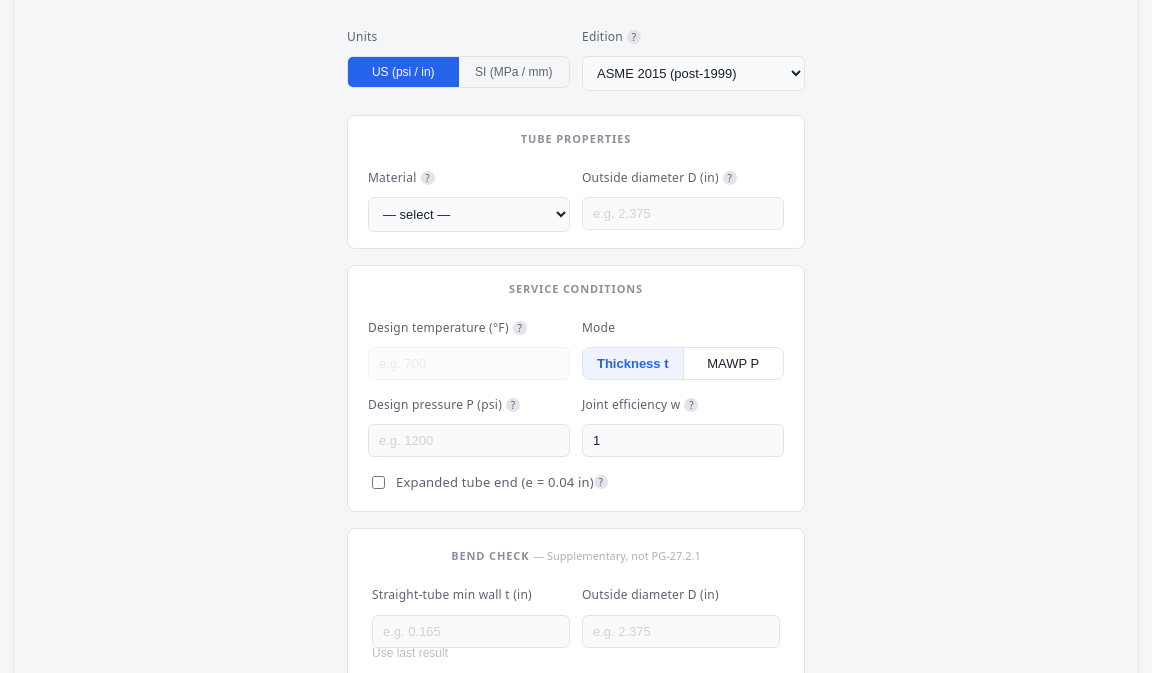
Test: TubeCalculator practical minimum note › note absent when result is at or above 0.125 in
Select "SA-178 C" in the dropdown labelled "Material ?" at coordinates (469, 215), box [368,197,570,232]
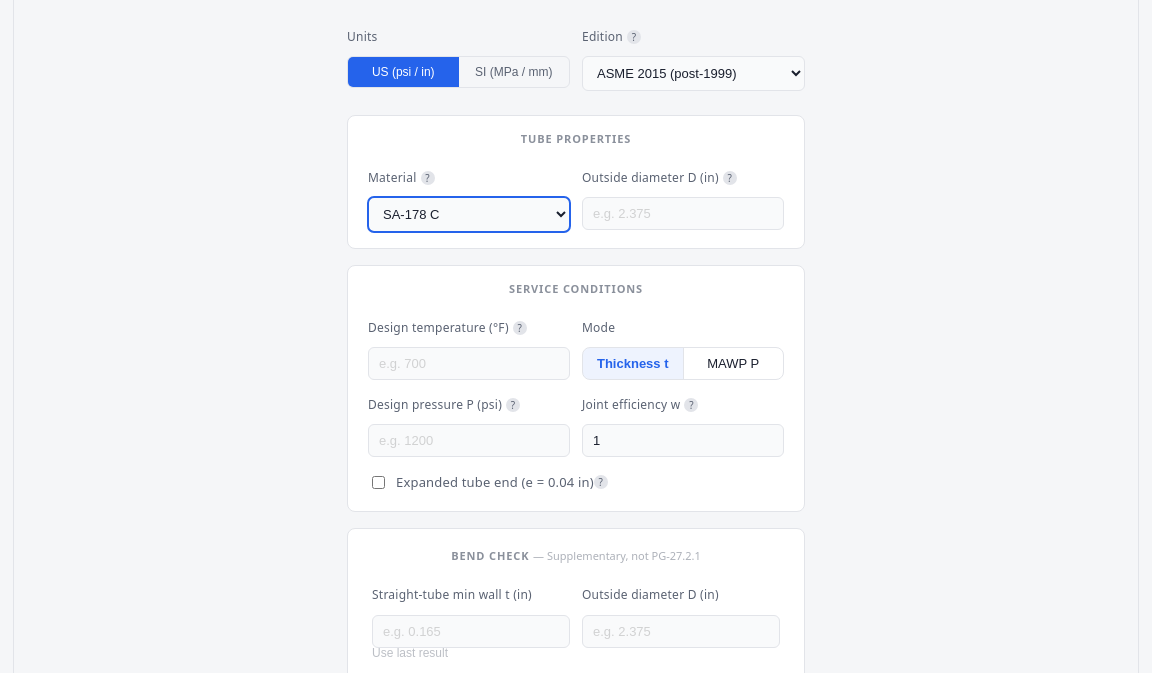
Type "700" into the number field with placeholder "e.g. 700" at coordinates (469, 364), box [368,347,570,380]
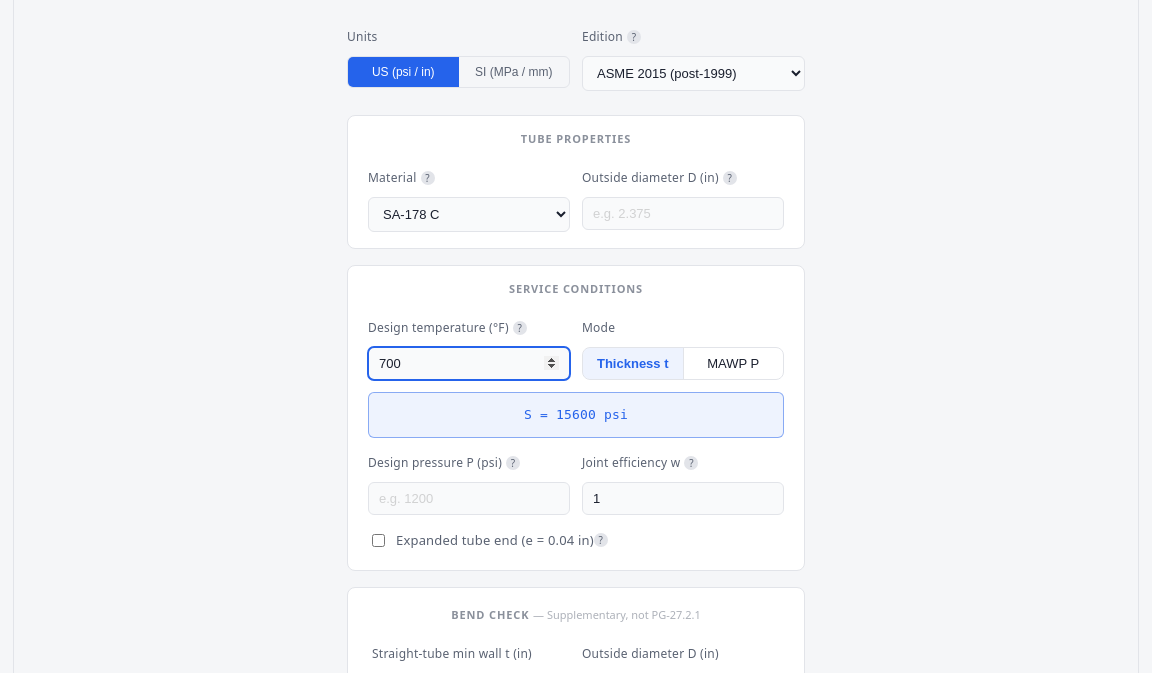
Type "2000" into the number field with placeholder "e.g. 1200" at coordinates (469, 499), box [368,482,570,515]
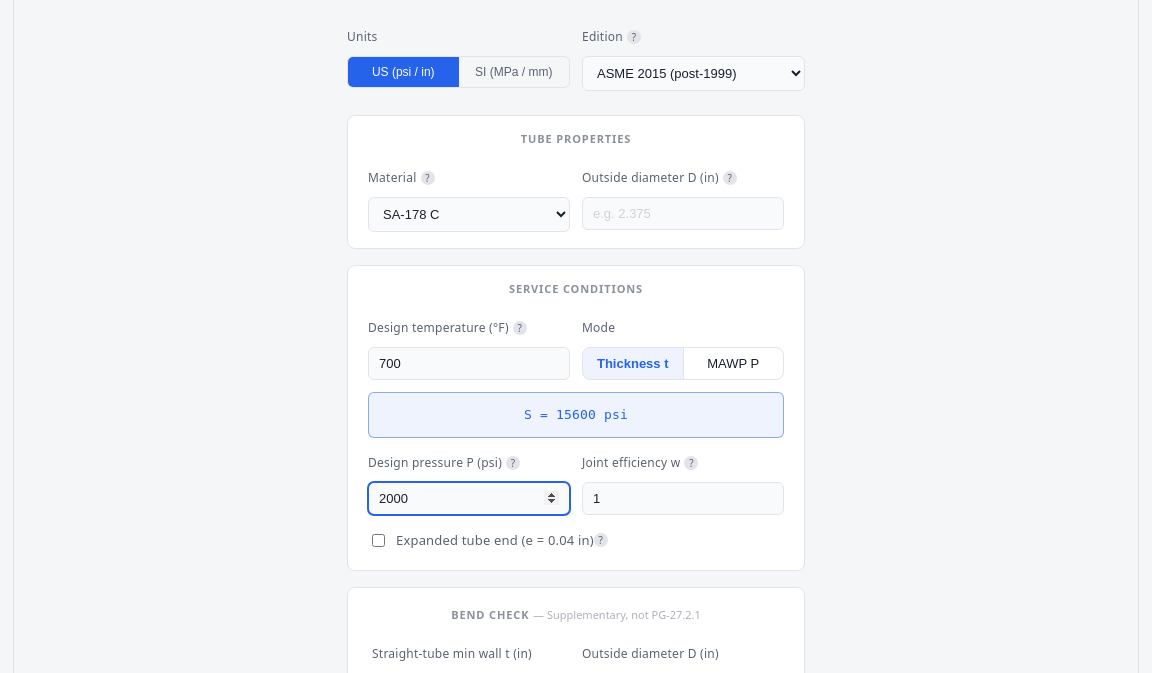
Type "2.375" into the number field with placeholder "e.g. 2.375" at coordinates (683, 214), box [582,197,784,230]
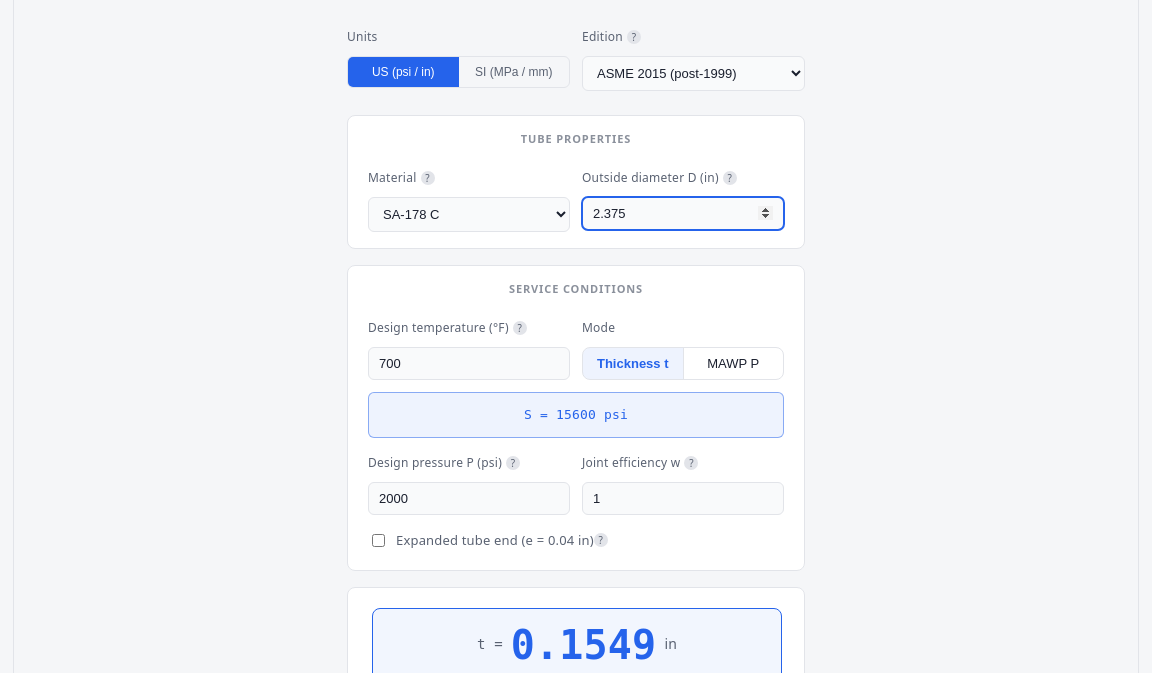
Expected: the text "0.1549" is shown, [511,624,656,664]
